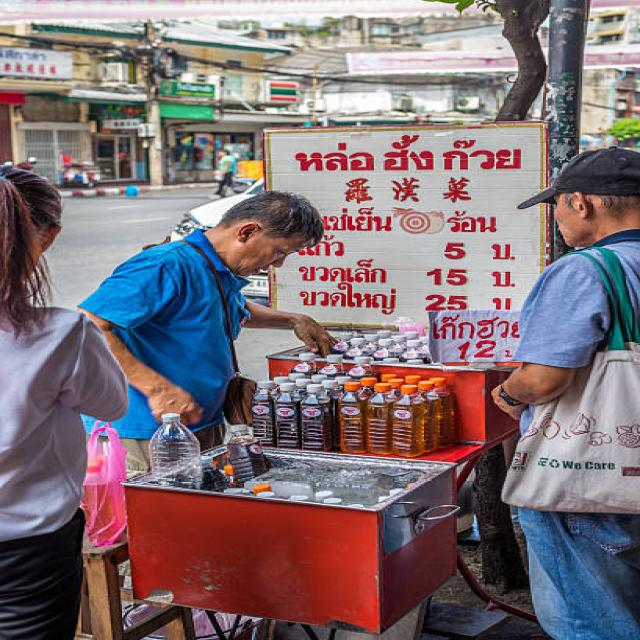Emperan: (74, 110, 608, 640)
